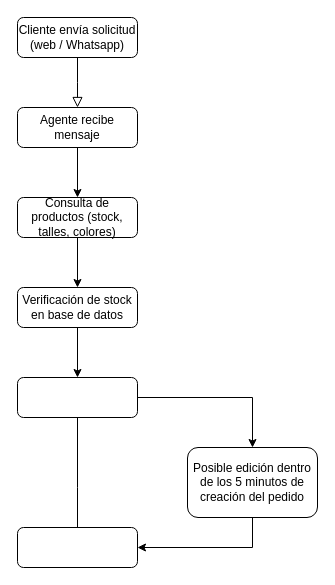
This 335x585 diagram has some shape labels left out. Here are the shapes that lost their labels. From the top down, the box of each, then its label:
(16, 376, 138, 418): Creación de pedido
(16, 526, 138, 568): Confirmación al cliente via Whatsapp
